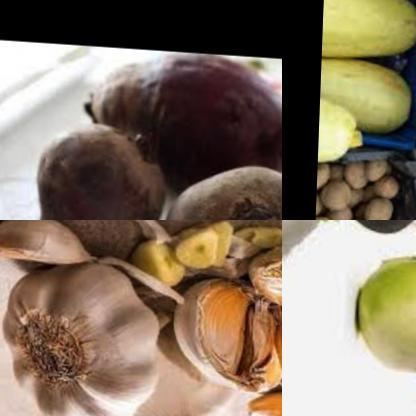beet: (81, 44, 282, 196), (24, 117, 170, 220), (158, 154, 282, 220)
garlic: (1, 266, 166, 416), (171, 266, 282, 404), (85, 333, 245, 416), (121, 220, 247, 304), (0, 220, 101, 267), (247, 221, 282, 322), (236, 373, 282, 416)
potato: (319, 155, 416, 220)
redka: (349, 238, 416, 384), (282, 220, 328, 410)
vegetable marrow: (322, 0, 416, 163)
